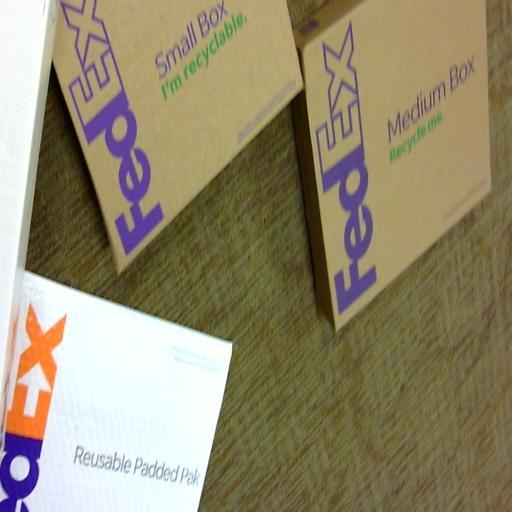Amazon: (43, 0, 300, 253), (303, 0, 486, 337), (0, 275, 238, 512)
